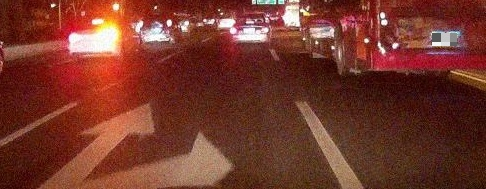L_light: (69, 34, 81, 41), (230, 29, 242, 35), (139, 21, 143, 28)
R_light: (104, 33, 118, 41), (256, 27, 269, 34), (167, 20, 172, 27)
T_light: (92, 19, 103, 25), (246, 21, 254, 24), (153, 12, 159, 14)
night-brake: (230, 12, 269, 46)
night-no: (139, 11, 175, 45)
night-right: (69, 11, 120, 62)
plate_1: (432, 33, 457, 46)
